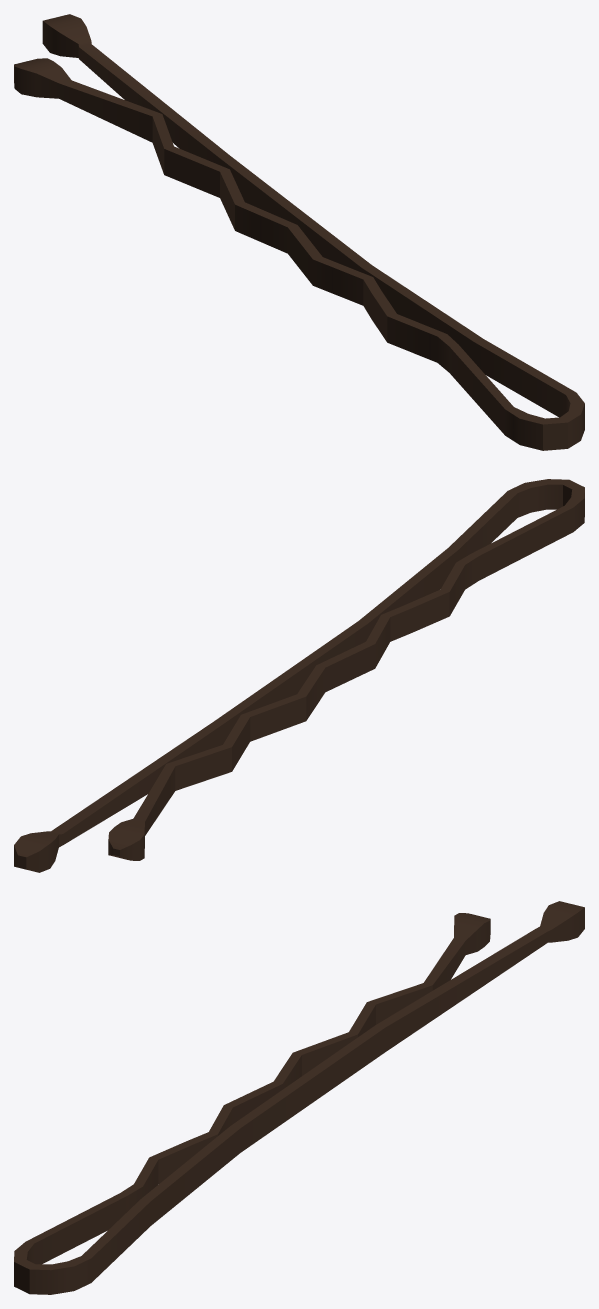
File: BobbyPin.fbx
3 views of the same model, one above another, from view 1: azimuth 30°, elevation 25°; view 2: azimuth 150°, elevation 25°; view 3: azimuth 330°, elevation 25° (orthographic). The views are drawn at different scales.
Visible parts, largest first — view 1: Bobbypin; view 2: Bobbypin; view 3: Bobbypin.
Part boxes in pixels (<box>): Bobbypin: <box>14,14,584,450</box>; Bobbypin: <box>14,479,584,872</box>; Bobbypin: <box>14,901,584,1294</box>.
Size of the model in its own units: 0.4854 by 0.1283 by 4.77.
